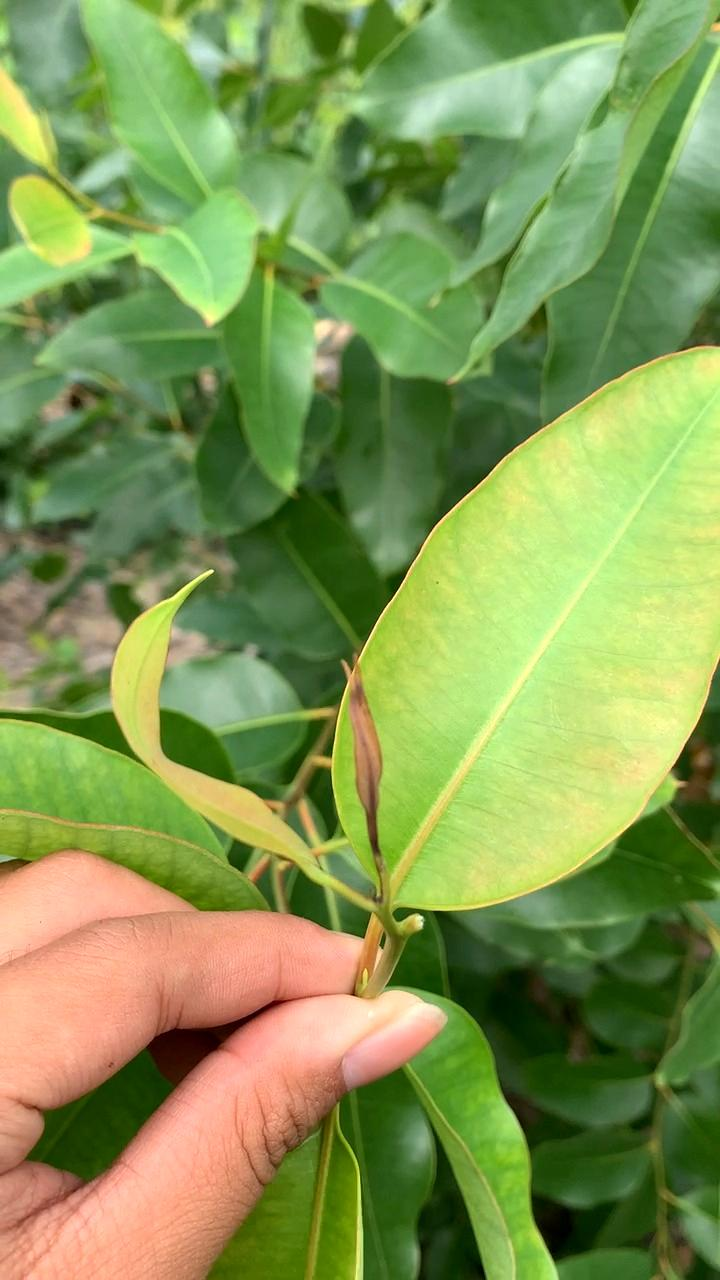Helopeltis-Withered Sprout: (326, 650, 399, 857)
